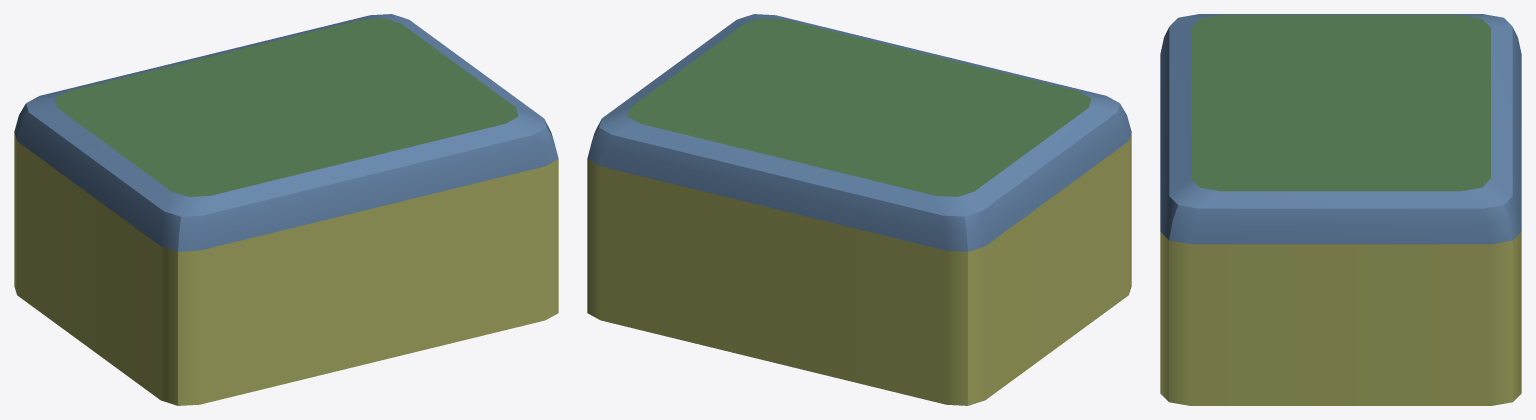
File: Sexta_Plataforma.fbx
3 views of the same model, side by side, from view 1: azimuth 30°, elevation 25°; view 2: azimuth 150°, elevation 25°; view 3: azimuth 270°, elevation 25° (orthographic). The views are drawn at different scales.
Parts seen in each view (by area): view 1: Sexta_Plataforma, Ground3, Wall3; view 2: Sexta_Plataforma, Ground3, Wall3; view 3: Sexta_Plataforma, Ground3, Wall3.
Part boxes in pixels (bbox=[...]): Sexta_Plataforma: bbox=[14, 133, 558, 405]; Ground3: bbox=[54, 18, 518, 196]; Wall3: bbox=[14, 14, 558, 251]; Sexta_Plataforma: bbox=[587, 133, 1131, 405]; Ground3: bbox=[627, 18, 1091, 196]; Wall3: bbox=[587, 14, 1131, 251]; Sexta_Plataforma: bbox=[1160, 232, 1521, 405]; Ground3: bbox=[1191, 15, 1490, 191]; Wall3: bbox=[1160, 14, 1521, 244].
Size of the model in its own units: 5300 by 2460 by 3998.
